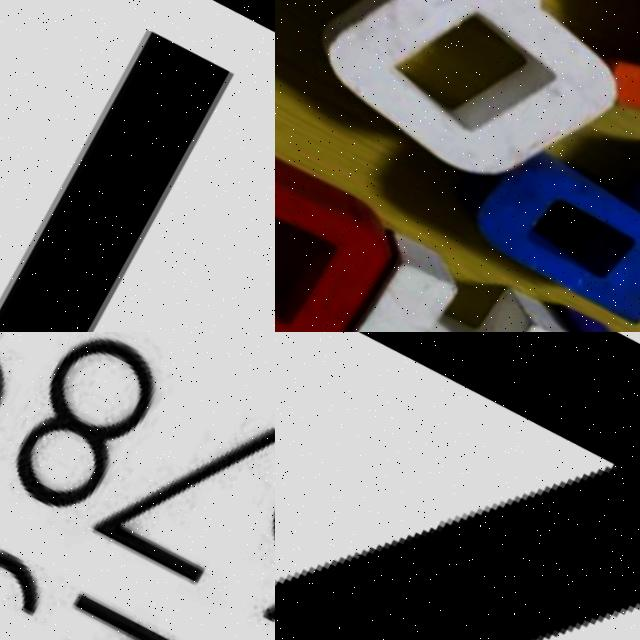2: (0, 584, 177, 640)
6: (214, 438, 275, 640)
7: (74, 371, 275, 619)
8: (0, 332, 180, 544)
9: (0, 332, 55, 473)
H: (303, 220, 589, 332)
I: (0, 21, 256, 332), (464, 0, 640, 209)
O: (275, 112, 408, 332)
P: (447, 58, 640, 332)
Q: (281, 0, 640, 241)
Z: (275, 332, 640, 640)
